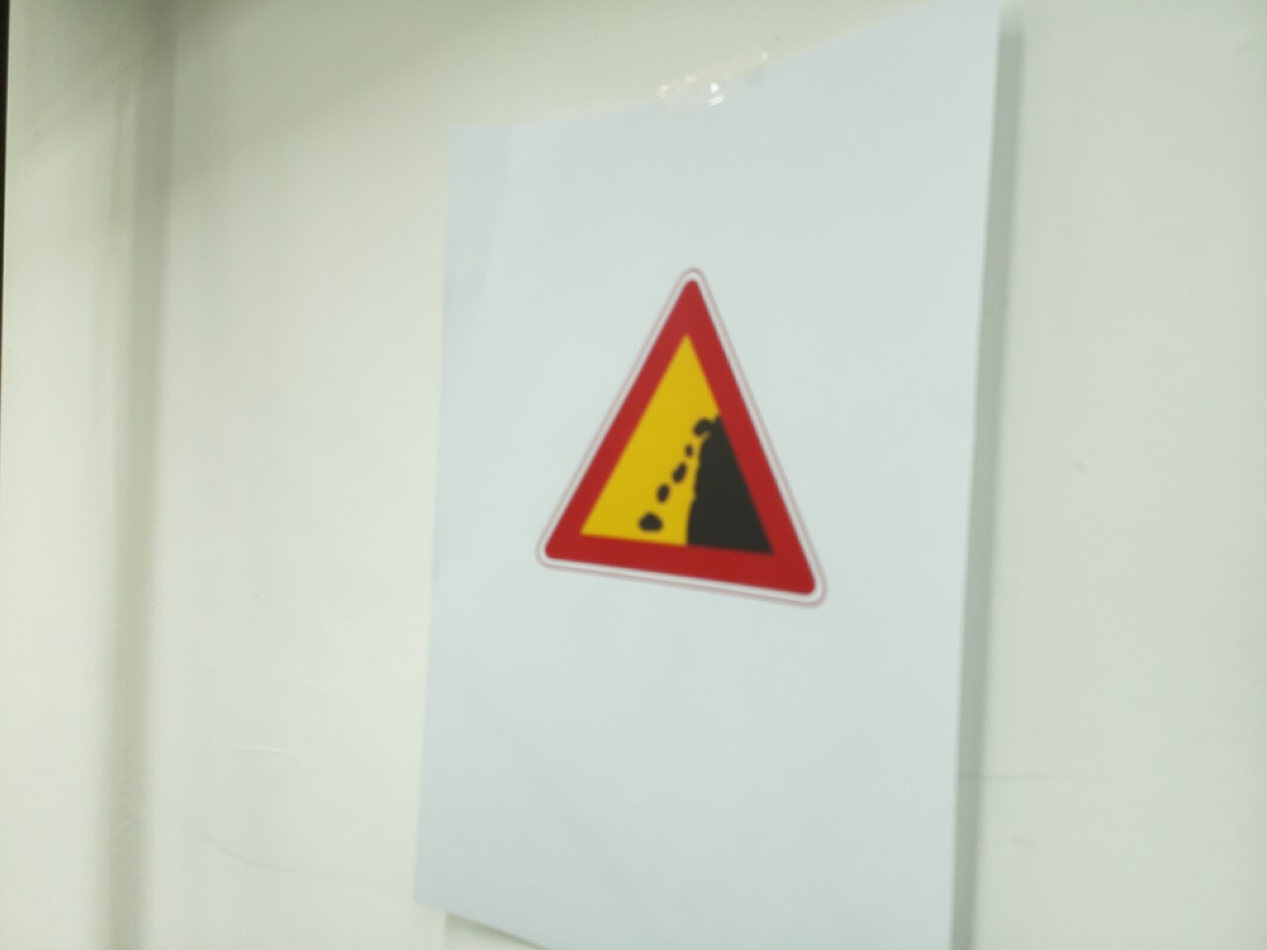falling_rocks: (536, 270, 825, 606)
